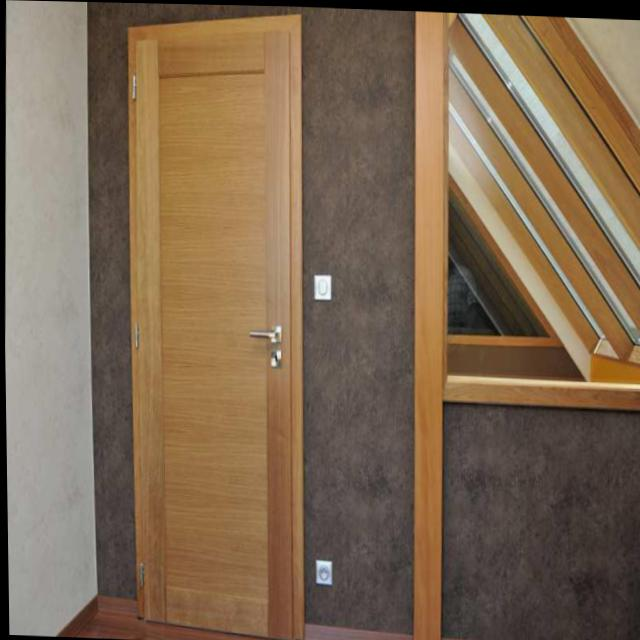close: (110, 6, 320, 639)
